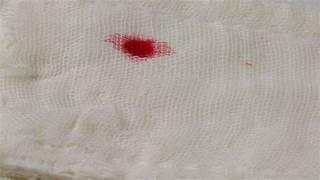cotton: (0, 0, 319, 179), (105, 33, 173, 60), (121, 39, 154, 57)
